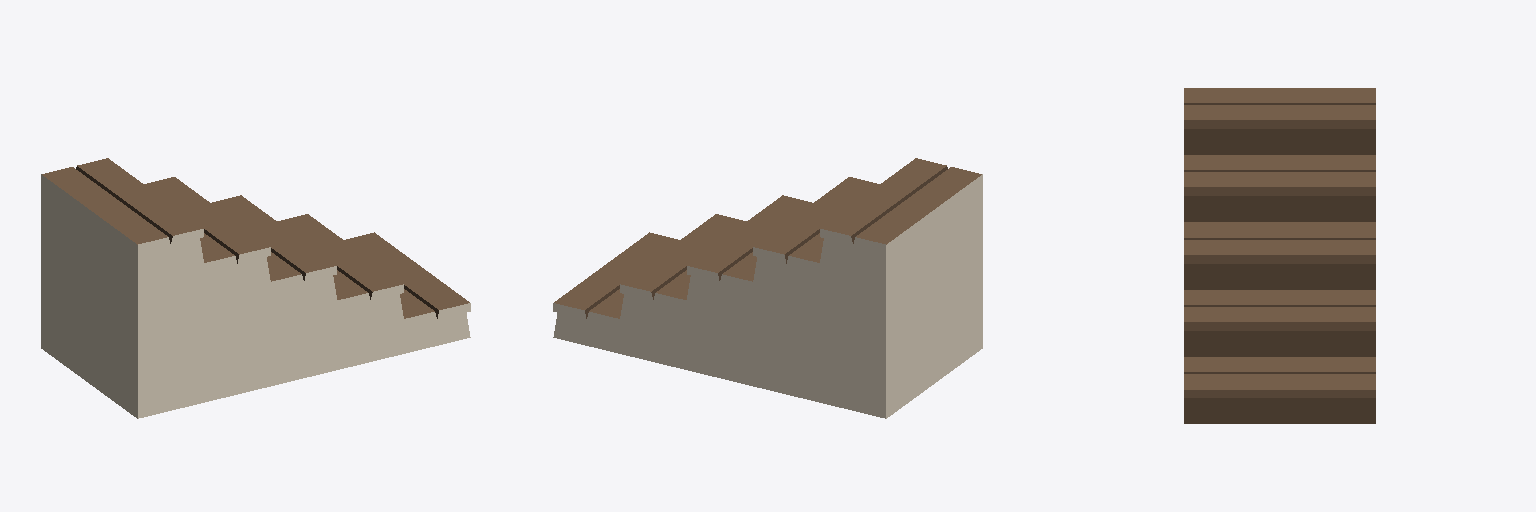
Rendered from Wood_Steps_Stucco.obj.
3 views of the same model, side by side, from view 1: azimuth 30°, elevation 25°; view 2: azimuth 150°, elevation 25°; view 3: azimuth 270°, elevation 25° (orthographic).
Parts seen in each view (by area): view 1: object1; view 2: object1; view 3: object1.
Boxes of the visible parts, x1,y1,x2,y2 form: object1: [41, 158, 470, 418]; object1: [553, 158, 982, 418]; object1: [1184, 88, 1375, 423].
Bounding box in the file's own units: 2 × 1 × 1.